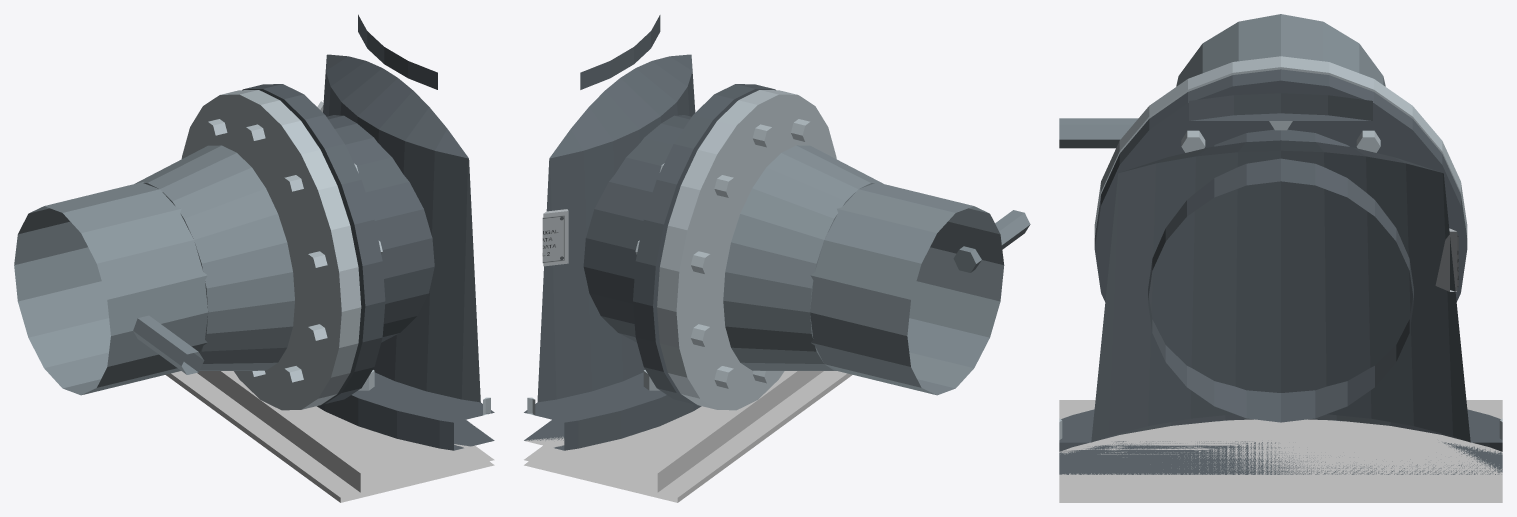
File: cell_6.obj
The picture shows the model from 3 angles, left to right: view 1: azimuth 30°, elevation 25°; view 2: azimuth 150°, elevation 25°; view 3: azimuth 270°, elevation 25°; orthographic projection. The views are drawn at different scales.
Bounding box in the file's own units: 1 × 1 × 1.
